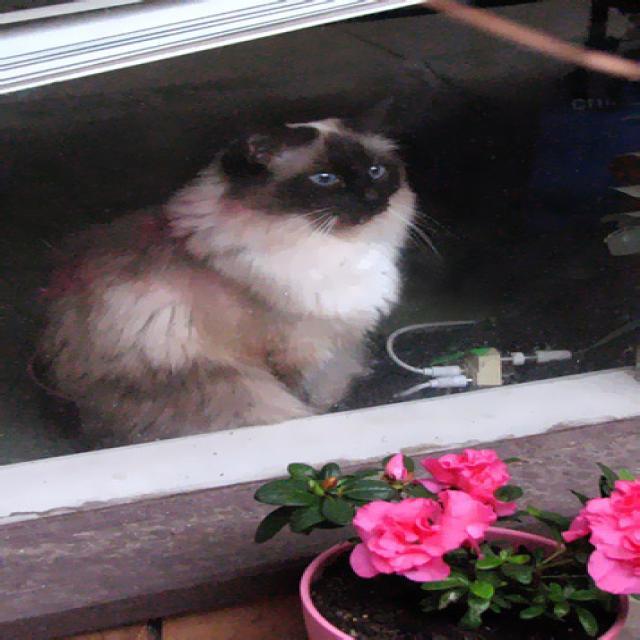Birman: (246, 92, 402, 224)
